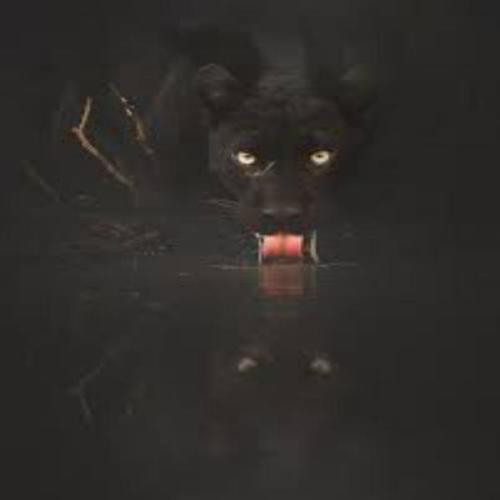panther-endangered: (33, 16, 378, 262)
